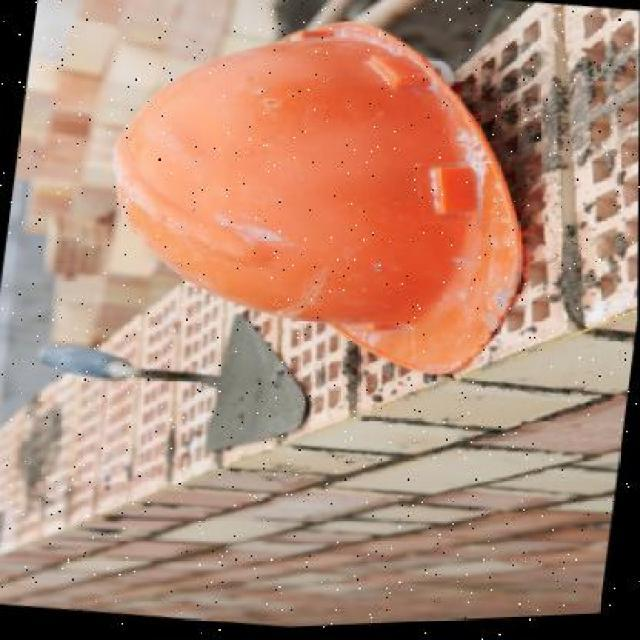helmet: (75, 0, 547, 394)
